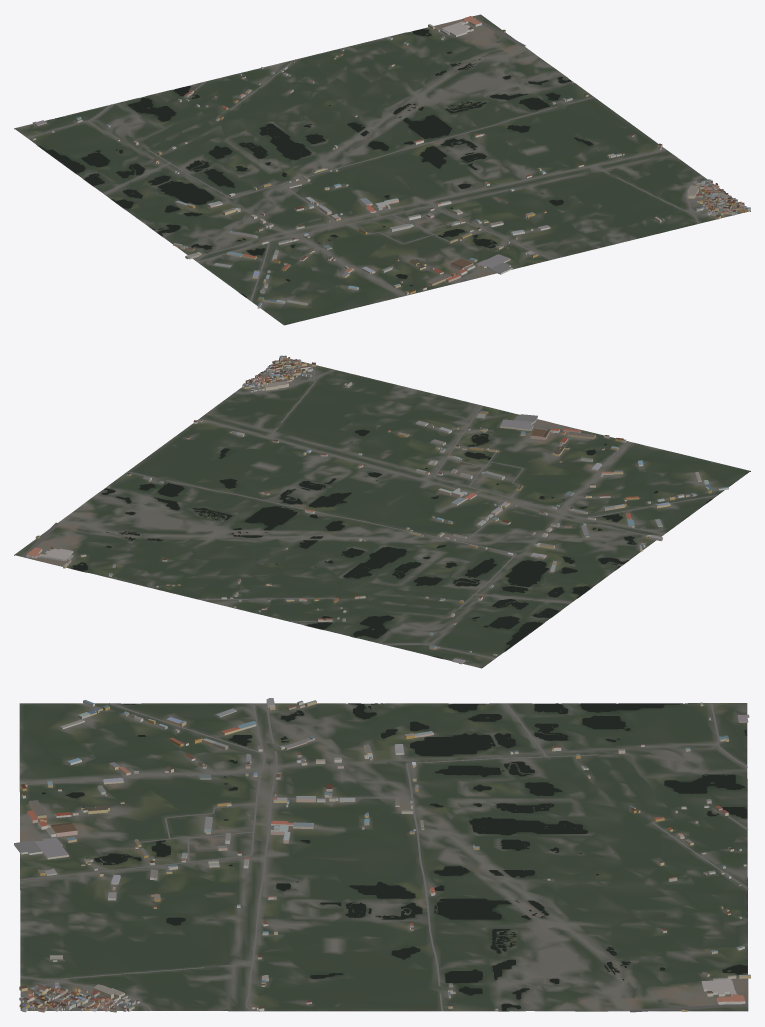
3 renders of one model, top to bottom at view 1: azimuth 30°, elevation 25°; view 2: azimuth 150°, elevation 25°; view 3: azimuth 270°, elevation 25°, orthographic. The views are drawn at different scales.
Visible parts, largest first — view 1: ground, water, buildings, roads; view 2: ground, water, buildings, roads; view 3: ground, water, buildings, roads.
Boxes of the visible parts, x1,y1,x2,y2 form: ground: [14, 14, 750, 325]; water: [38, 28, 593, 297]; buildings: [32, 16, 750, 308]; roads: [27, 16, 746, 301]; ground: [14, 359, 750, 668]; water: [72, 429, 711, 658]; buildings: [26, 355, 728, 664]; roads: [21, 358, 717, 658]; ground: [19, 703, 748, 1011]; water: [42, 703, 747, 1010]; buildings: [14, 698, 750, 1012]; roads: [19, 703, 748, 1012].
Size of the model in its own units: 1423 by 14.78 by 1420.
